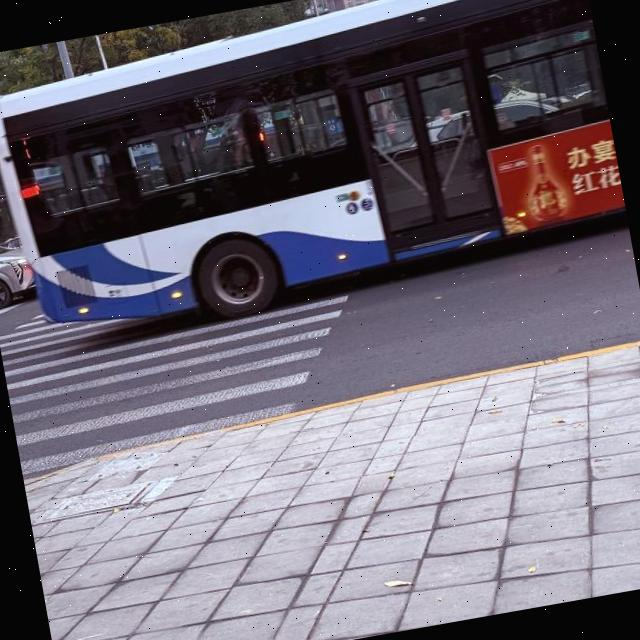curb: (23, 340, 640, 486)
